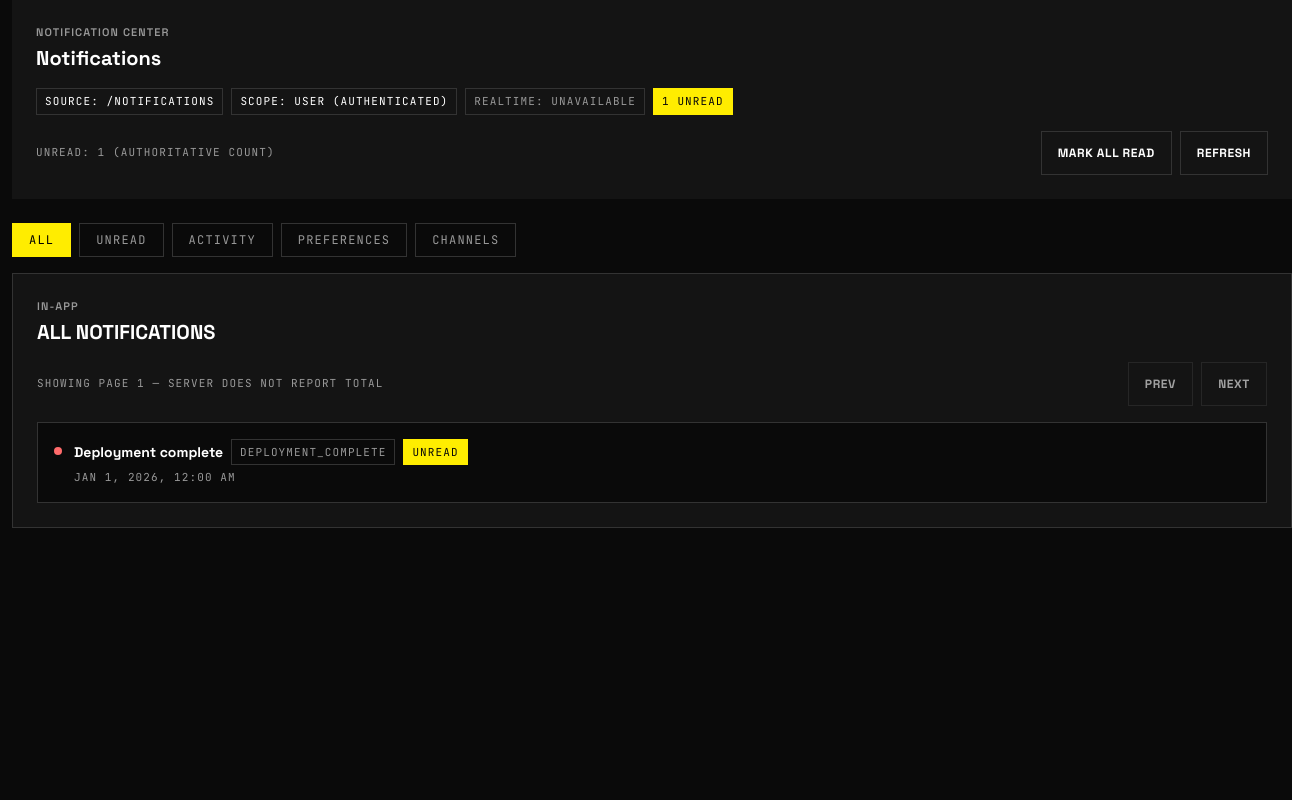
Test: Notification Center — read-only (C1) › shows read/unread states, expands a notification body and hosts Ask AI
Expected: the text "Deployment complete" is shown, [74, 442, 223, 462]
Click the button "Deployment complete".
click(149, 452)  # box [74, 438, 1250, 486]
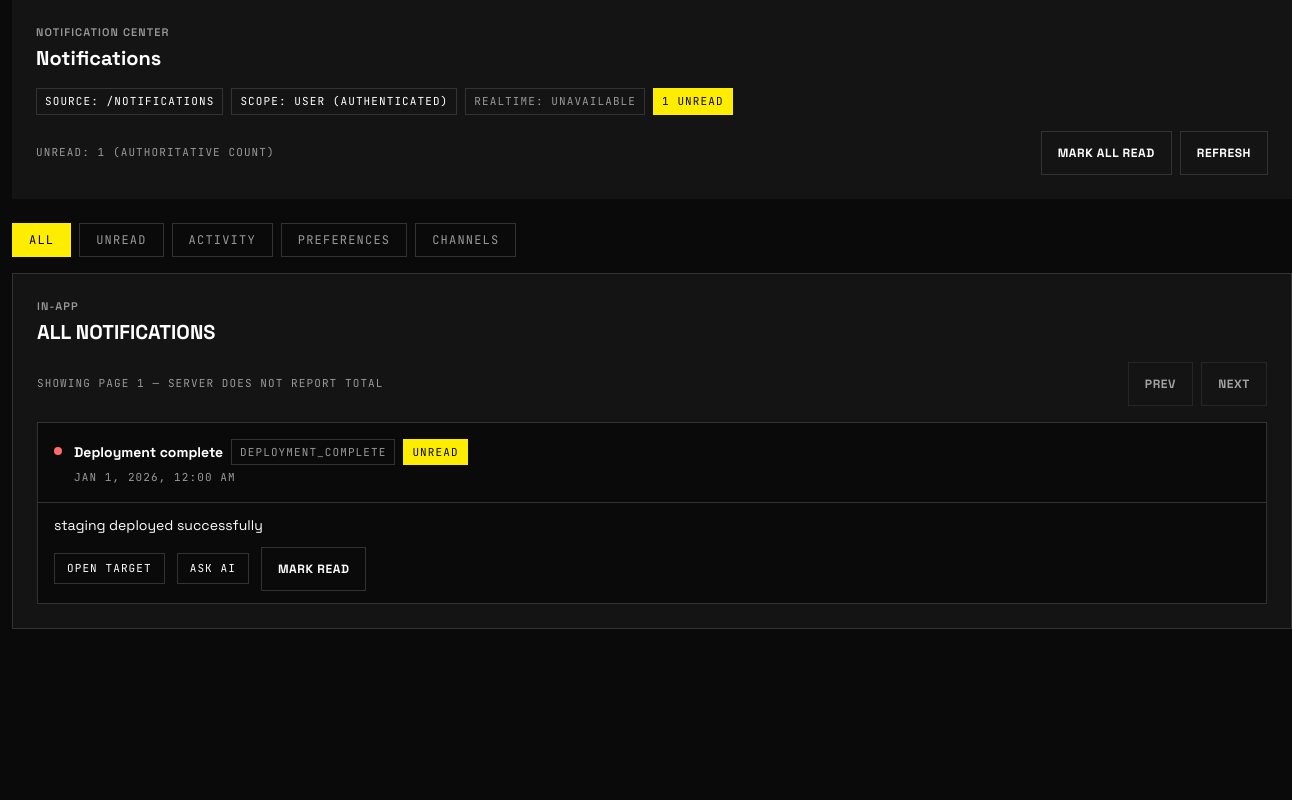
Expected: the text "staging deployed successfully" is shown, [54, 516, 263, 534]
